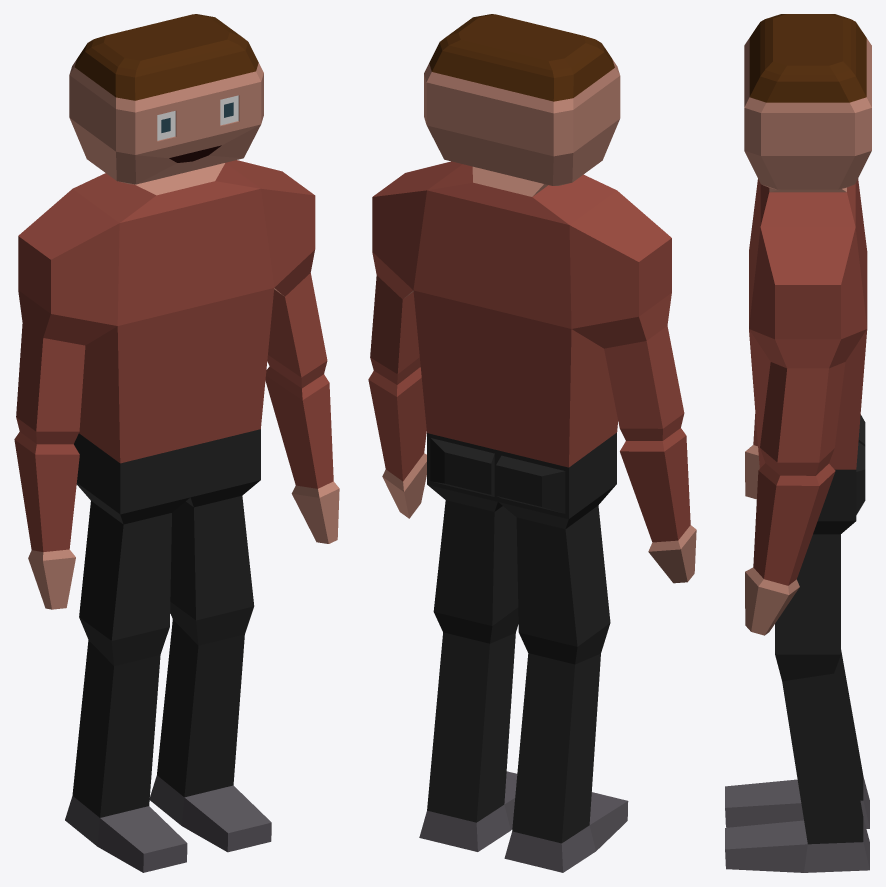
File: Bystander1.fbx
3 renders of one model, left to right at view 1: azimuth 30°, elevation 25°; view 2: azimuth 150°, elevation 25°; view 3: azimuth 270°, elevation 25°, orthographic.
Visible parts, largest first — view 1: Cube; view 2: Cube; view 3: Cube.
Boxes of the visible parts, <box> form: Cube: <box>14,14,339,872</box>; Cube: <box>368,14,696,872</box>; Cube: <box>725,14,871,872</box>.
Size of the model in its own units: 352 by 895 by 149.
